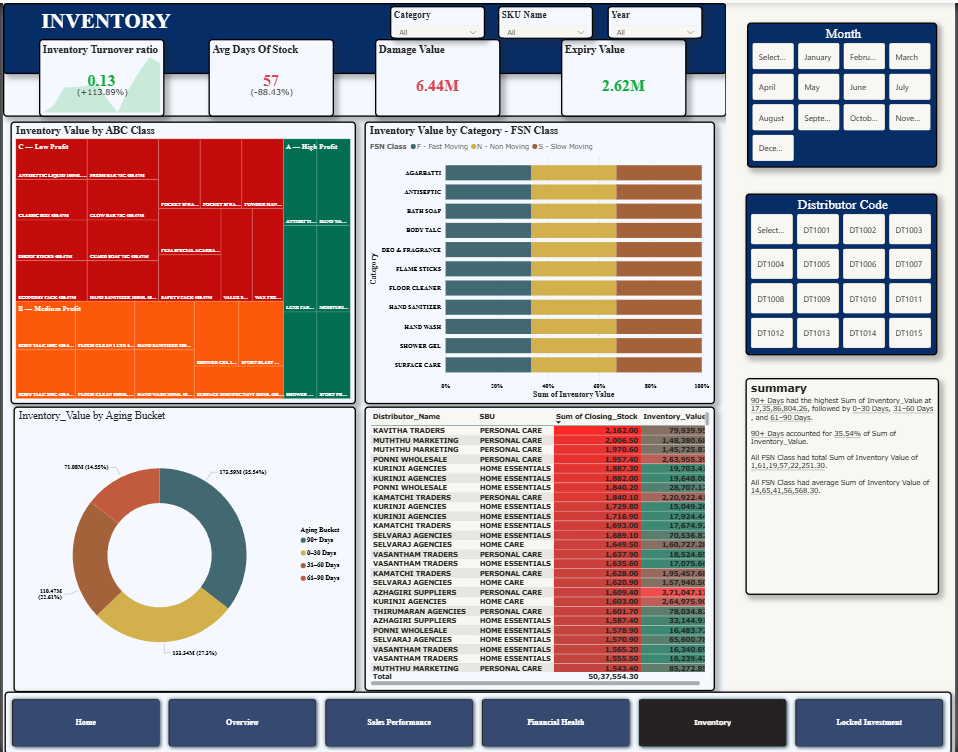

The dashboard page shown, as its layout file describes it:
{"tool":"powerbi","page":{"name":"Inventory","canvas":[1900,1500],"ordinal":4},"visuals":[{"type":"textbox","box":[0,60,1445,167.5],"z":0},{"type":"shape","box":[0,0,1445,142.2],"z":1000},{"type":"textbox","box":[1443.3,0,453.1,1599.1],"z":1000,"group":"g1"},{"type":"kpi","title":"Expiry Value","fields":{"Indicator":["Sum(Raw_Inventory.Expiry_Value)"],"Goal":["_Measures.Overdue Target"],"TrendLine":["Dim_Date.Date.Variation.Date Hierarchy.Month"]},"box":[1114.5,72,250.8,155.6],"z":3000},{"type":"kpi","title":"Damage Value","fields":{"Indicator":["Sum(Raw_Inventory.Damage_Value)"],"Goal":["_Measures.Overdue Target"],"TrendLine":["Dim_Date.Date.Variation.Date Hierarchy.Month"]},"box":[743,72,250.8,155.6],"z":4000},{"type":"slicer","title":"Year","fields":{"Values":["Dim_Date.Year"]},"box":[1207.4,7,190.3,65],"z":4500},{"type":"kpi","title":"Avg Days Of Stock","fields":{"Goal":["_Measures.Target days of stock"],"TrendLine":["Dim_Date.Date.Variation.Date Hierarchy.Month"],"Indicator":["_Measures.Avg Days Of Stock"]},"box":[411,72,250.8,155.6],"z":5000},{"type":"kpi","title":"Inventory Turnover ratio","fields":{"Indicator":["_Measures.Inventory Turnover"],"TrendLine":["Dim_Date.Date.Variation.Date Hierarchy.Month"],"Goal":["_Measures.Last Month Turnover"]},"box":[72,72,250.8,155.6],"z":6000},{"type":"treemap","title":"Inventory Value by ABC Class","fields":{"Group":["ABC_Table.ABC Class"],"Details":["ABC_Table.SKU_Name"],"Values":["Sum(ABC_Table.Inventory Value)"]},"box":[13.7,235.3,690.2,564.7],"z":7000},{"type":"advancedSlicerVisual","title":"Month","fields":{"Values":["Dim_Date.Date.Variation.Date Hierarchy.Month"]},"box":[1483.9,40,380,290],"z":8000,"group":"g1"},{"type":"hundredPercentStackedBarChart","title":"Inventory Value by Category - FSN Class","fields":{"Category":["Products.Category"],"Y":["Sum(ABC_Table.Inventory Value)"],"Series":["Raw_Inventory.FSN Class"]},"box":[721.6,235.3,700,564.7],"z":8000},{"type":"group","id":"g1","title":"Group 2","box":[1443.3,0,453.1,1599.1],"z":9000},{"type":"advancedSlicerVisual","title":"Distributor Code","fields":{"Values":["Distirbutor.Distributor_Code"]},"box":[1482.2,380,383.3,323.3],"z":9000,"group":"g1"},{"type":"donutChart","title":"Inventory_Value by Aging Bucket","fields":{"Category":["Raw_Inventory.Aging Bucket"],"Y":["Sum(Raw_Inventory.Inventory_Value)"]},"box":[19.6,805.9,684.3,570.6],"z":10000},{"type":"slicer","title":"SKU Name","fields":{"Values":["Products.SKU_Name"]},"box":[988.1,7,190.3,65],"z":10250},{"type":"slicer","title":"Category","fields":{"Values":["Products.Category"]},"box":[773.2,7,190.3,65],"z":10375},{"type":"tableEx","title":"Closing Stock by Inventory_Value - Category","fields":{"Values":["Distirbutor.Distributor_Name","Products.SBU","Sum(Raw_Inventory.Closing_Stock)","Raw_Inventory.Inventory_Value"]},"box":[721.6,805.9,700,568.6],"z":11000},{"type":"textbox","title":"summary","box":[1483.3,750,386.7,433.3],"z":12000},{"type":"pageNavigator","box":[2,1374.5,1892.2,125.5],"z":13000},{"type":"textbox","box":[71.2,5.8,523.1,65.4],"z":14000}]}

Visuals, with their boxes in screenshot pixels (x1, y1, x2, y2), scaled from the page's 1900x1500 canvas onto the 958x752 screenshot:
textbox: detection(0, 30, 729, 114)
shape: detection(0, 0, 729, 71)
textbox: detection(728, 0, 956, 751)
"Expiry Value" kpi: detection(562, 36, 688, 114)
"Damage Value" kpi: detection(375, 36, 501, 114)
"Year" slicer: detection(609, 4, 705, 36)
"Avg Days Of Stock" kpi: detection(207, 36, 334, 114)
"Inventory Turnover ratio" kpi: detection(36, 36, 163, 114)
"Inventory Value by ABC Class" treemap: detection(7, 118, 355, 401)
"Month" advancedSlicerVisual: detection(748, 20, 940, 165)
"Inventory Value by Category - FSN Class" hundredPercentStackedBarChart: detection(364, 118, 717, 401)
"Group 2" group: detection(728, 0, 956, 751)
"Distributor Code" advancedSlicerVisual: detection(747, 191, 941, 353)
"Inventory_Value by Aging Bucket" donutChart: detection(10, 404, 355, 690)
"SKU Name" slicer: detection(498, 4, 594, 36)
"Category" slicer: detection(390, 4, 486, 36)
"Closing Stock by Inventory_Value - Category" tableEx: detection(364, 404, 717, 689)
"summary" textbox: detection(748, 376, 943, 593)
pageNavigator: detection(1, 689, 955, 751)
textbox: detection(36, 3, 300, 36)
